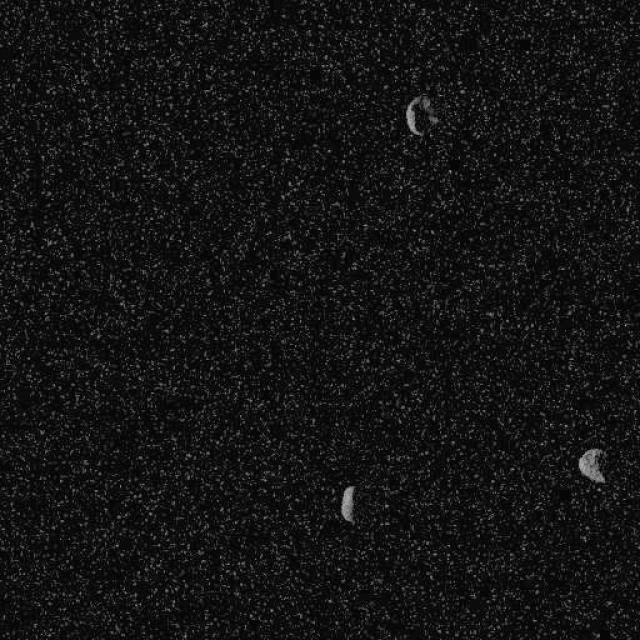D2: (403, 92, 438, 136), (576, 446, 606, 484), (339, 483, 355, 522)
